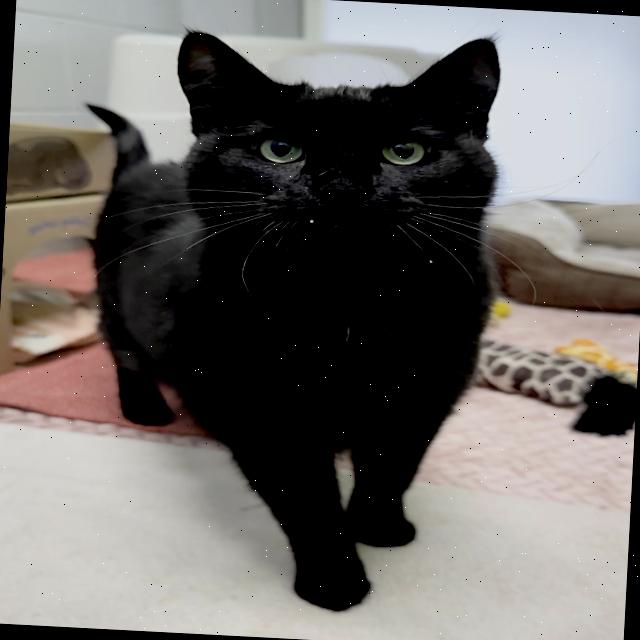domestic_short_hair_cat: (149, 11, 522, 293)
